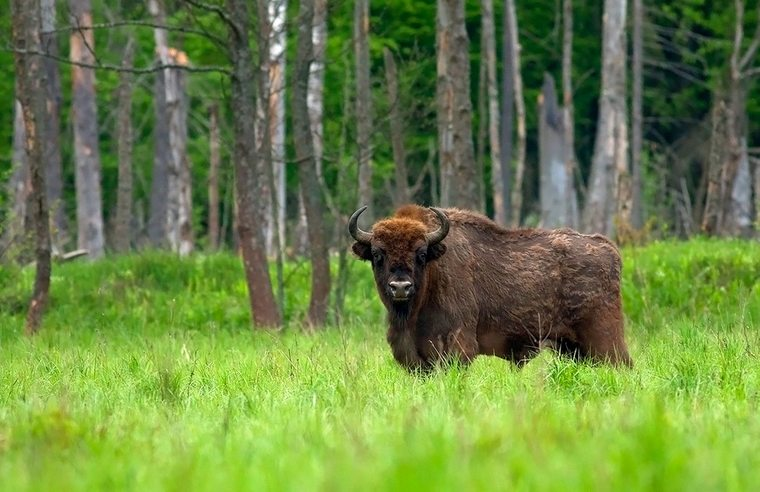zubr: (336, 178, 666, 399)
